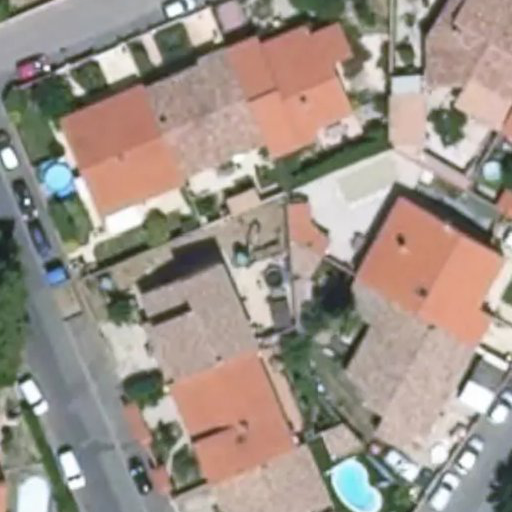pool: (232, 225, 279, 259)
